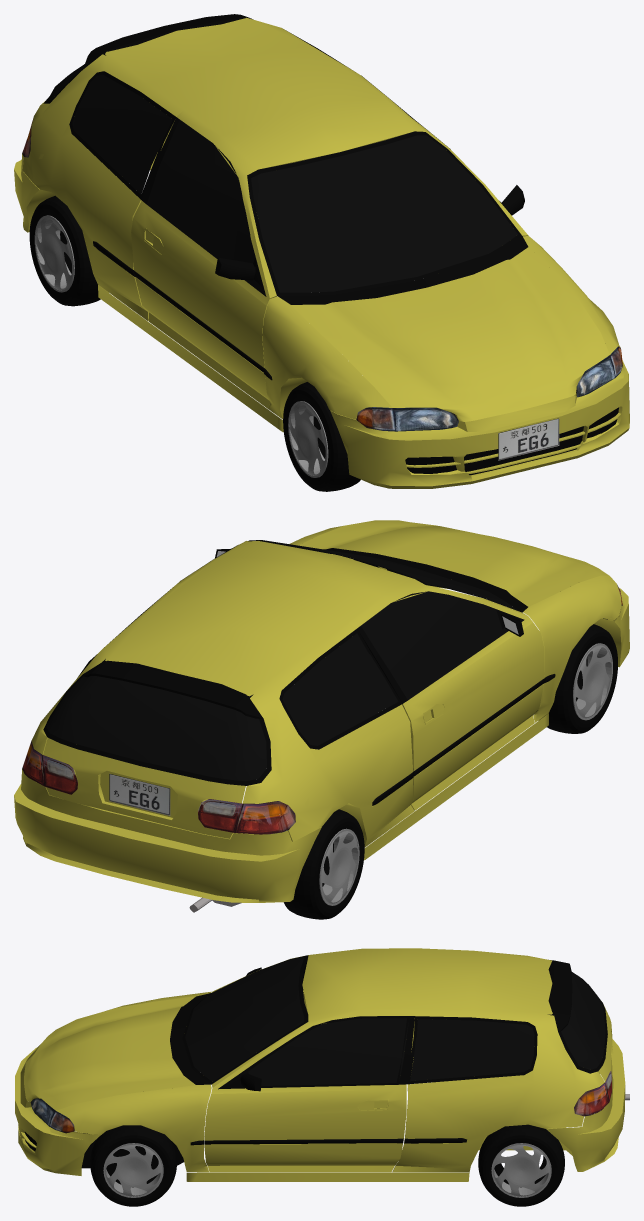
The model's file is honda-civic.glb.
3 views of the same model, one above another, from view 1: azimuth 30°, elevation 25°; view 2: azimuth 150°, elevation 25°; view 3: azimuth 270°, elevation 25° (orthographic). The views are drawn at different scales.
Parts seen in each view (by area): view 1: mainbody, frontbumper.001, mainbody.001, frontbumper, front fender, mainbody.002, mainbody.003, Circle.003, Circle.002, mainbody.005, frontbumper.005, sideskirt (+7 smaller); view 2: mainbody, rear bumper, trunk.001, frontbumper.001, mainbody.002, mainbody.003, trunk, front fender, Circle.003, Circle.002, mainbody.004, spoiler (+6 smaller); view 3: mainbody, frontbumper.001, mainbody.001, mainbody.002, mainbody.003, front fender, Circle.001, Circle, rear bumper, frontbumper, trunk.001, sideskirt (+9 smaller).
Boxes of the visible parts, left/top/right/bottom form: mainbody: left=22, top=17, right=528, bottom=408; frontbumper.001: left=291, top=247, right=609, bottom=421; mainbody.001: left=247, top=131, right=521, bottom=295; frontbumper: left=330, top=360, right=629, bottom=488; front fender: left=262, top=236, right=620, bottom=419; mainbody.002: left=146, top=120, right=266, bottom=296; mainbody.003: left=69, top=30, right=349, bottom=200; Circle.003: left=29, top=195, right=100, bottom=306; Circle.002: left=283, top=382, right=360, bottom=491; mainbody.005: left=277, top=236, right=528, bottom=304; frontbumper.005: left=405, top=407, right=618, bottom=475; sideskirt: left=98, top=285, right=283, bottom=432; mainbody: left=31, top=541, right=544, bottom=847; rear bumper: left=14, top=769, right=321, bottom=902; trunk.001: left=43, top=674, right=271, bottom=785; frontbumper.001: left=298, top=520, right=609, bottom=606; mainbody.002: left=361, top=591, right=524, bottom=700; mainbody.003: left=77, top=589, right=402, bottom=749; trunk: left=43, top=738, right=245, bottom=838; front fender: left=289, top=526, right=621, bottom=723; Circle.003: left=284, top=809, right=364, bottom=919; Circle.002: left=536, top=624, right=617, bottom=733; mainbody.004: left=22, top=741, right=295, bottom=834; spoiler: left=83, top=659, right=263, bottom=718; mainbody: left=204, top=948, right=604, bottom=1172; frontbumper.001: left=24, top=996, right=195, bottom=1110; mainbody.001: left=182, top=955, right=308, bottom=1084; mainbody.002: left=248, top=959, right=408, bottom=1085; mainbody.003: left=406, top=1016, right=537, bottom=1084; front fender: left=56, top=991, right=211, bottom=1172; Circle.001: left=478, top=1124, right=564, bottom=1206; Circle: left=90, top=1125, right=176, bottom=1206; rear bumper: left=546, top=1039, right=625, bottom=1171; frontbumper: left=15, top=1047, right=100, bottom=1175; trunk.001: left=558, top=972, right=607, bottom=1073; sideskirt: left=186, top=1080, right=469, bottom=1181.
Size of the model in its own units: 361 by 266 by 820.
Materials: 11 (2 with a texture image).
